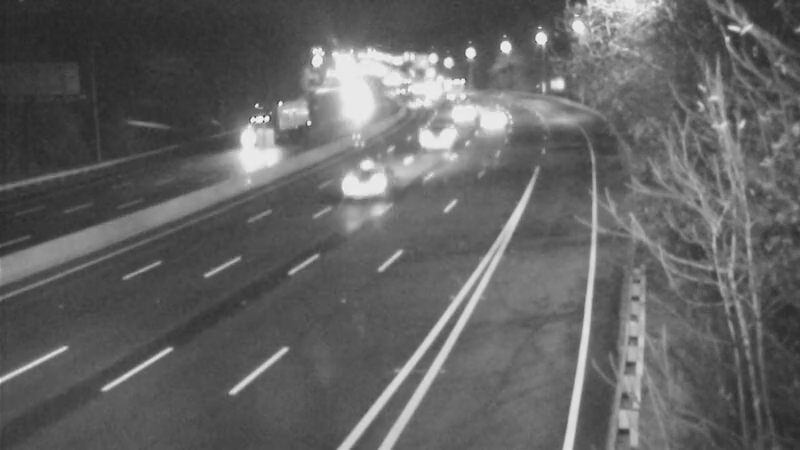vehicle: (329, 138, 409, 218), (424, 64, 474, 114), (433, 87, 483, 137), (470, 92, 520, 142), (417, 114, 467, 164), (221, 114, 271, 164)
